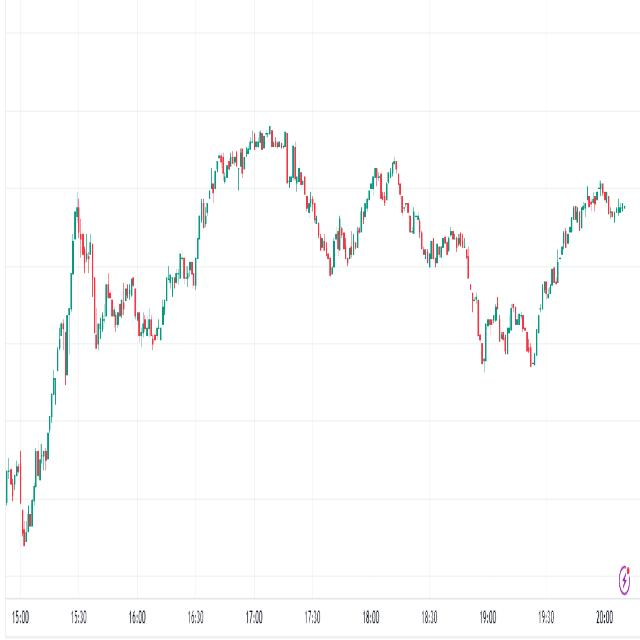Double-Top: (365, 134, 405, 234)
Rounding-Top: (195, 106, 328, 254)
